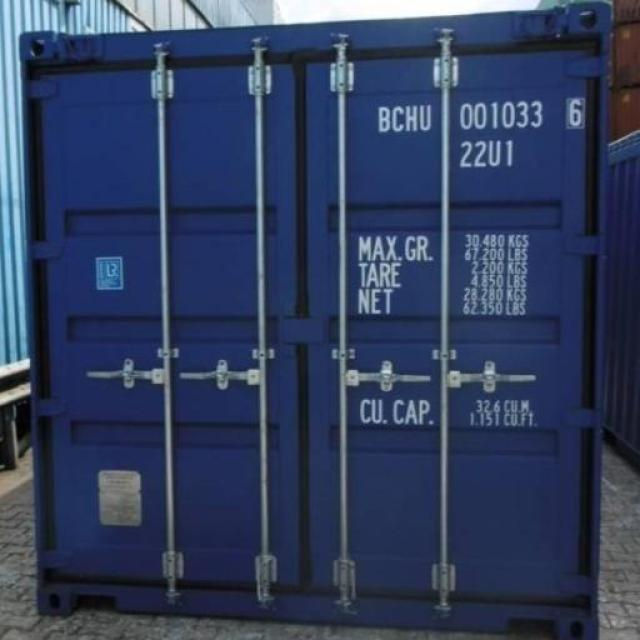ISO: (461, 138, 518, 169)
container_number: (382, 102, 570, 130)
